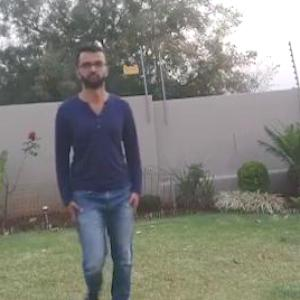follow: (59, 52, 142, 299)
